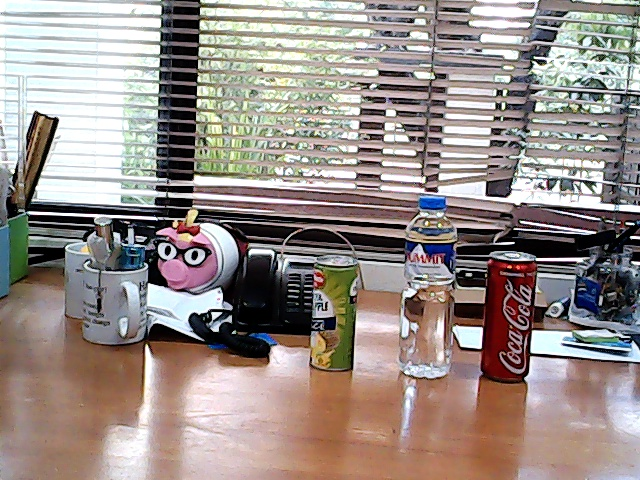Cola: (476, 244, 548, 389)
Pine Juice: (296, 246, 371, 383)
Summit Water: (388, 185, 468, 386)
